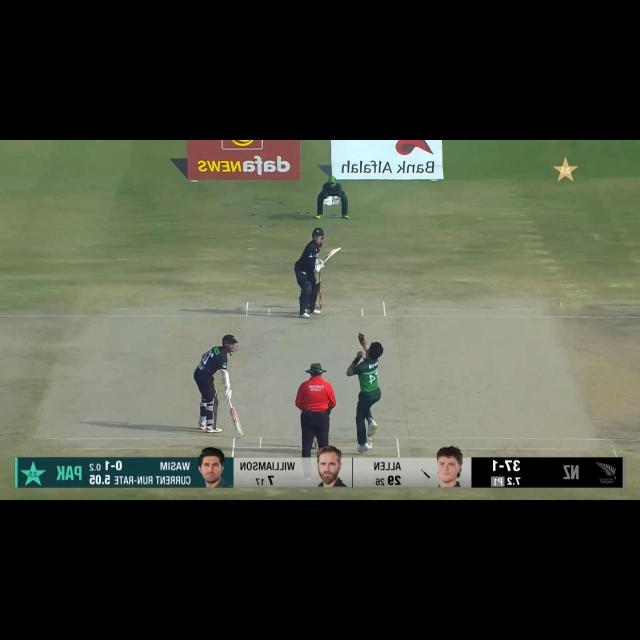bat: (231, 410, 244, 440), (324, 246, 341, 263)
toe: (234, 429, 244, 439), (333, 246, 341, 254)
